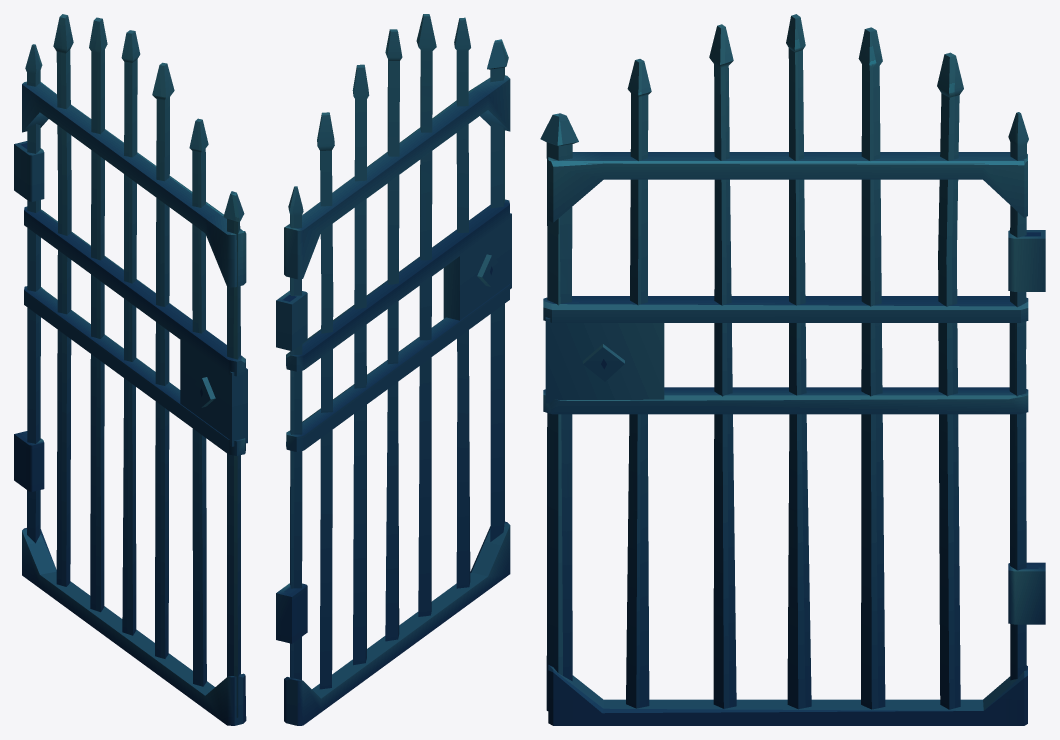
The model's file is Modular_Dungeon_Door_Metal.fbx.
3 renders of one model, left to right at view 1: azimuth 30°, elevation 25°; view 2: azimuth 150°, elevation 25°; view 3: azimuth 270°, elevation 25°, orthographic. The views are drawn at different scales.
Parts seen in each view (by area): view 1: Door_Metal; view 2: Door_Metal; view 3: Door_Metal.
Boxes of the visible parts, <box> form: Door_Metal: <box>14,14,247,725</box>; Door_Metal: <box>276,14,511,725</box>; Door_Metal: <box>540,14,1045,725</box>.
Bounding box in the file's own units: 0.1459 × 3.19 × 2.07.
1 material, 1 textured.
